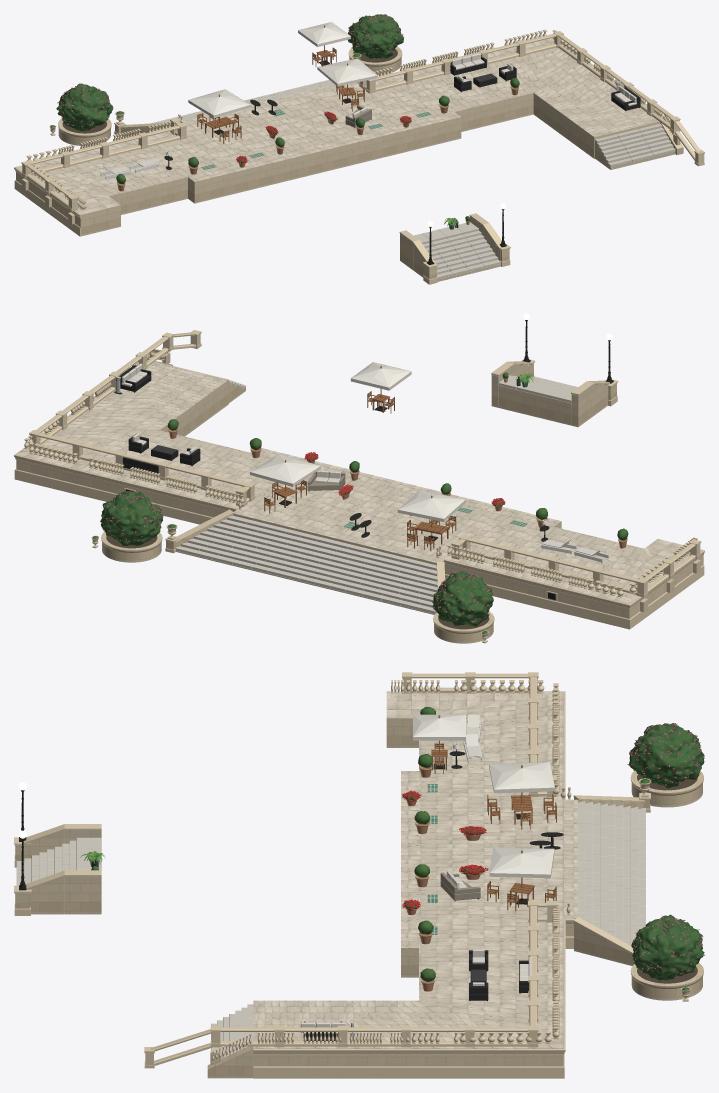
File: terrasse.glb
3 views of the same model, one above another, from view 1: azimuth 30°, elevation 25°; view 2: azimuth 150°, elevation 25°; view 3: azimuth 270°, elevation 25° (orthographic). The views are drawn at different scales.
Parts seen in each view (by area): view 1: terrasse_plateforme, terrasse_balustrades_socles_tablettes_des, terrasse_perron_nord_marches, terrasse_escalier_est_marches, terrasse_laurier_rose.0, terrasse_perron_nord_echiffres, terrasse_laurier_rose.1, terrasse_parasol.0, terrasse_parasol.1, terrasse_bac_massif.0, terrasse_cordon_plinthe, terrasse_parasol.3_balcon (+2 smaller); view 2: terrasse_plateforme, terrasse_perron_sud_marches, terrasse_balustrades_socles_tablettes_des, terrasse_cordon_plinthe, terrasse_perron_nord_marches, terrasse_laurier_rose.1, terrasse_laurier_rose.0, terrasse_perron_nord_echiffres, terrasse_parasol.1, terrasse_parasol.0, terrasse_bac_massif.1, terrasse_bac_massif.0 (+2 smaller); view 3: terrasse_plateforme, terrasse_balustrades_socles_tablettes_des, terrasse_perron_sud_marches, terrasse_cordon_plinthe, terrasse_perron_nord_echiffres, terrasse_laurier_rose.0, terrasse_laurier_rose.1, terrasse_perron_sud_echiffres, terrasse_perron_nord_marches, terrasse_parasol.1, terrasse_parasol.0, terrasse_bac_massif.1 (+5 smaller).
Boxes of the visible parts, left/top/right/bottom form: terrasse_plateforme: left=16, top=37, right=662, bottom=236; terrasse_balustrades_socles_tablettes_des: left=21, top=31, right=704, bottom=224; terrasse_perron_nord_marches: left=414, top=222, right=500, bottom=281; terrasse_escalier_est_marches: left=595, top=124, right=675, bottom=169; terrasse_laurier_rose.0: left=56, top=83, right=113, bottom=131; terrasse_perron_nord_echiffres: left=399, top=213, right=510, bottom=284; terrasse_laurier_rose.1: left=348, top=14, right=403, bottom=58; terrasse_parasol.0: left=188, top=89, right=250, bottom=134; terrasse_parasol.1: left=317, top=58, right=377, bottom=103; terrasse_bac_massif.0: left=58, top=118, right=111, bottom=145; terrasse_cordon_plinthe: left=14, top=63, right=662, bottom=236; terrasse_parasol.3_balcon: left=298, top=22, right=350, bottom=65; terrasse_plateforme: left=16, top=361, right=703, bottom=618; terrasse_perron_sud_marches: left=175, top=515, right=437, bottom=614; terrasse_balustrades_socles_tablettes_des: left=29, top=330, right=701, bottom=611; terrasse_cordon_plinthe: left=14, top=396, right=704, bottom=629; terrasse_perron_nord_marches: left=498, top=375, right=577, bottom=425; terrasse_laurier_rose.1: left=100, top=491, right=163, bottom=546; terrasse_laurier_rose.0: left=432, top=571, right=493, bottom=626; terrasse_perron_nord_echiffres: left=491, top=358, right=618, bottom=427; terrasse_parasol.1: left=250, top=454, right=320, bottom=505; terrasse_parasol.0: left=397, top=490, right=465, bottom=540; terrasse_bac_massif.1: left=101, top=532, right=162, bottom=562; terrasse_bac_massif.0: left=433, top=611, right=494, bottom=643; terrasse_plateforme: left=253, top=691, right=577, bottom=1066; terrasse_balustrades_socles_tablettes_des: left=144, top=672, right=556, bottom=1068; terrasse_perron_sud_marches: left=578, top=801, right=645, bottom=945; terrasse_cordon_plinthe: left=253, top=691, right=576, bottom=1078; terrasse_perron_nord_echiffres: left=14, top=824, right=101, bottom=915; terrasse_laurier_rose.0: left=627, top=723, right=704, bottom=788; terrasse_laurier_rose.1: left=631, top=914, right=704, bottom=980; terrasse_perron_sud_echiffres: left=573, top=793, right=650, bottom=965; terrasse_perron_nord_marches: left=16, top=837, right=101, bottom=885; terrasse_parasol.1: left=489, top=847, right=554, bottom=904; terrasse_parasol.0: left=489, top=762, right=554, bottom=819; terrasse_bac_massif.1: left=630, top=963, right=703, bottom=1000.
Size of the model in its own units: 41.88 by 9.85 by 33.95.
Materials: 27 (7 with a texture image).
